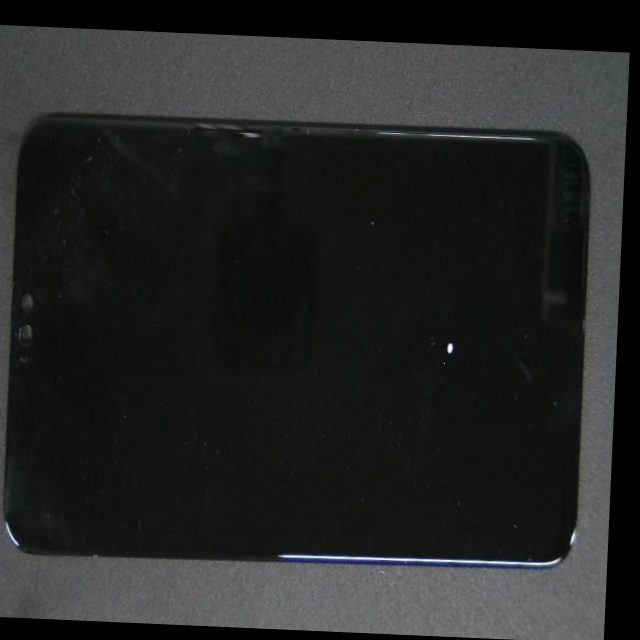stain: (228, 183, 623, 468)
